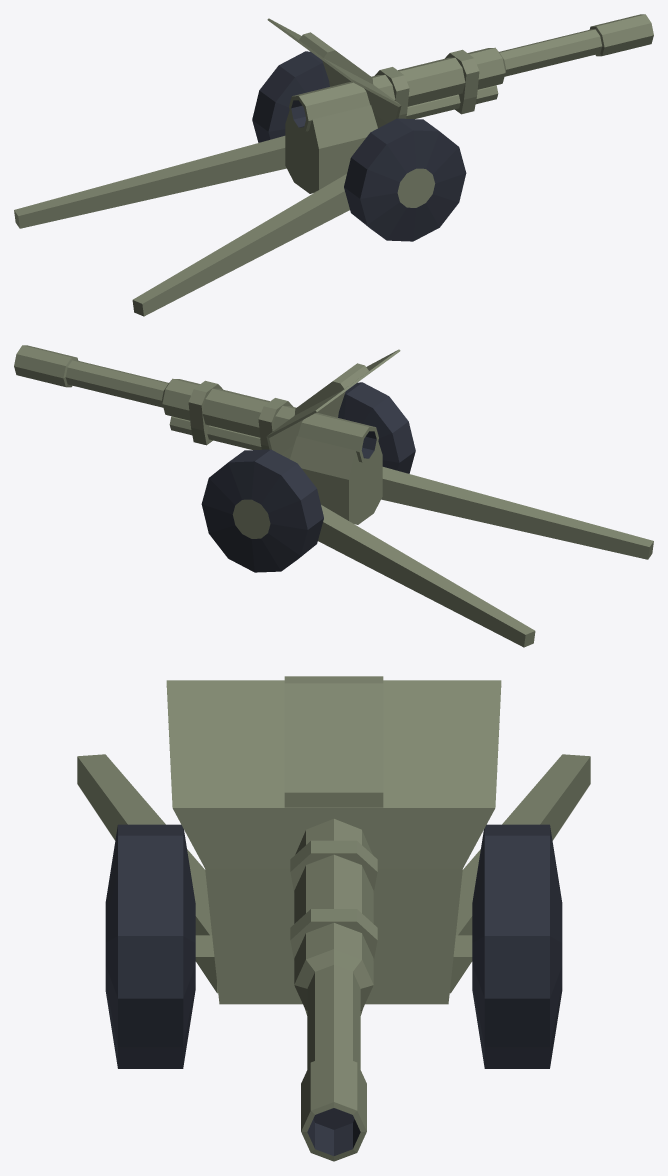
File: полевая пушка.glb
3 views of the same model, one above another, from view 1: azimuth 30°, elevation 25°; view 2: azimuth 150°, elevation 25°; view 3: azimuth 270°, elevation 25° (orthographic). The views are drawn at different scales.
Visible parts, largest first — view 1: Cube.003, Cylinder.004, Cube.002, Cube.001, Cube, Cylinder.003, Cube.004; view 2: Cube.003, Cylinder.003, Cube.001, Cube.002, Cube, Cylinder.004, Cube.004; view 3: Cube.004, Cube.003, Cylinder.003, Cylinder.004, Cube.001, Cube.002, Cylinder.002.
Boxes of the visible parts, bbox=[...] form: Cube.003: bbox=[289, 14, 653, 131]; Cylinder.004: bbox=[344, 118, 466, 241]; Cube.002: bbox=[14, 136, 286, 228]; Cube.001: bbox=[132, 174, 349, 316]; Cube: bbox=[285, 105, 377, 193]; Cylinder.003: bbox=[252, 51, 329, 142]; Cube.004: bbox=[267, 18, 401, 128]; Cube.003: bbox=[14, 345, 378, 462]; Cylinder.003: bbox=[201, 449, 323, 572]; Cube.001: bbox=[381, 467, 653, 559]; Cube.002: bbox=[318, 505, 535, 647]; Cube: bbox=[290, 436, 382, 524]; Cylinder.004: bbox=[338, 382, 415, 473]; Cube.004: bbox=[266, 349, 400, 459]; Cube.004: bbox=[166, 676, 501, 1004]; Cube.003: bbox=[290, 819, 377, 1161]; Cylinder.003: bbox=[472, 824, 562, 1068]; Cylinder.004: bbox=[105, 824, 195, 1068]; Cube.001: bbox=[77, 754, 218, 993]; Cube.002: bbox=[449, 754, 590, 993]; Cylinder.002: bbox=[195, 935, 472, 956].
Size of the model in its own units: 7.87 by 2.24 by 3.07.
